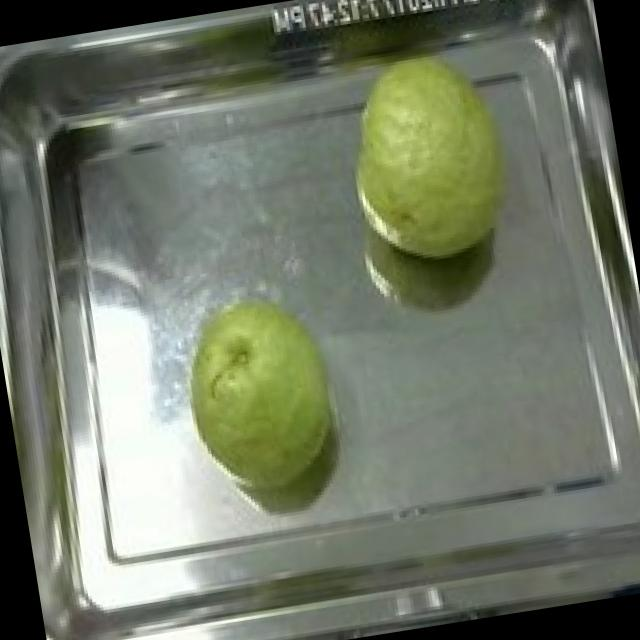Fruit: (326, 41, 539, 282), (162, 274, 358, 512)
